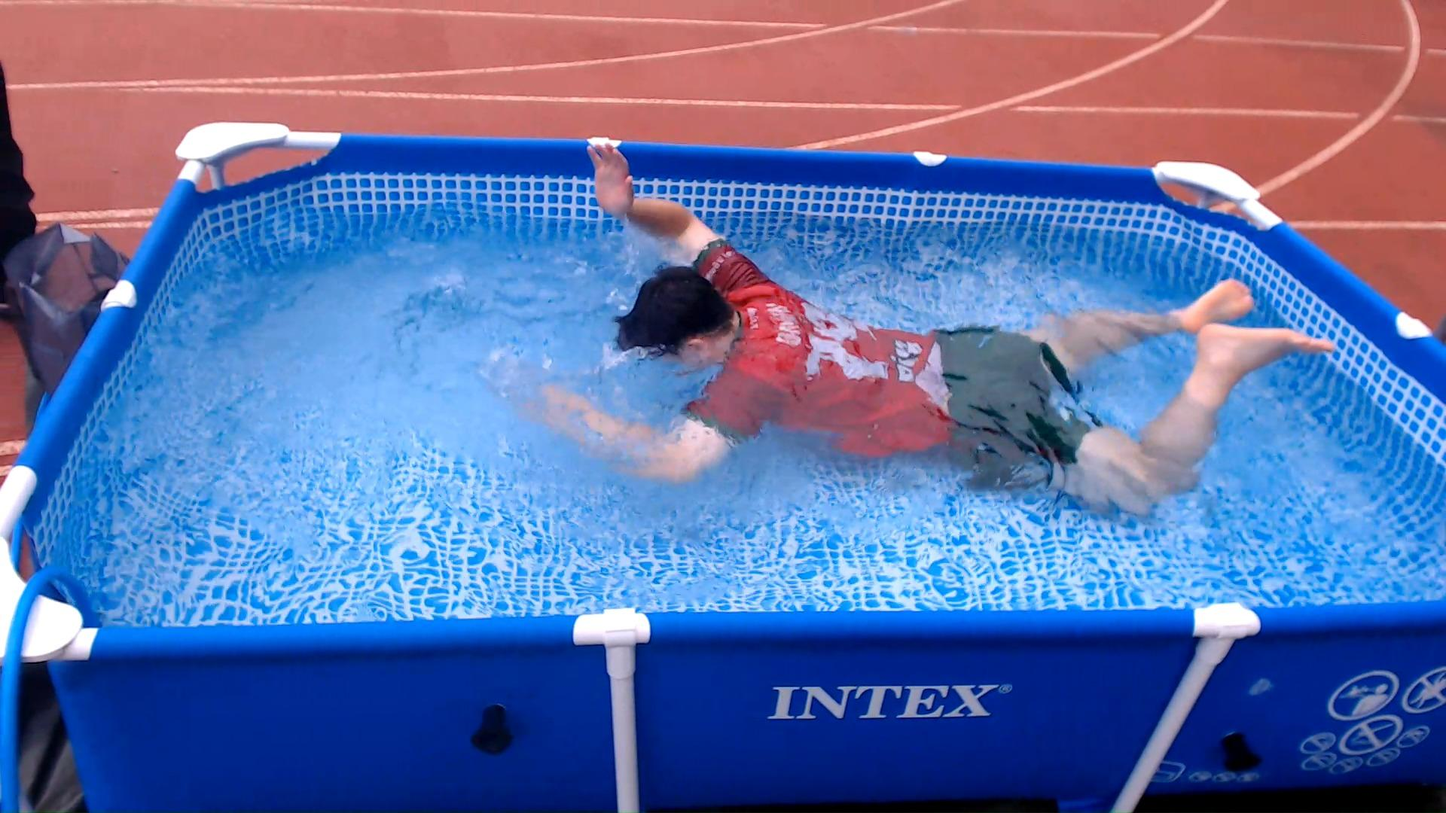Drowning: (408, 88, 1348, 538)
